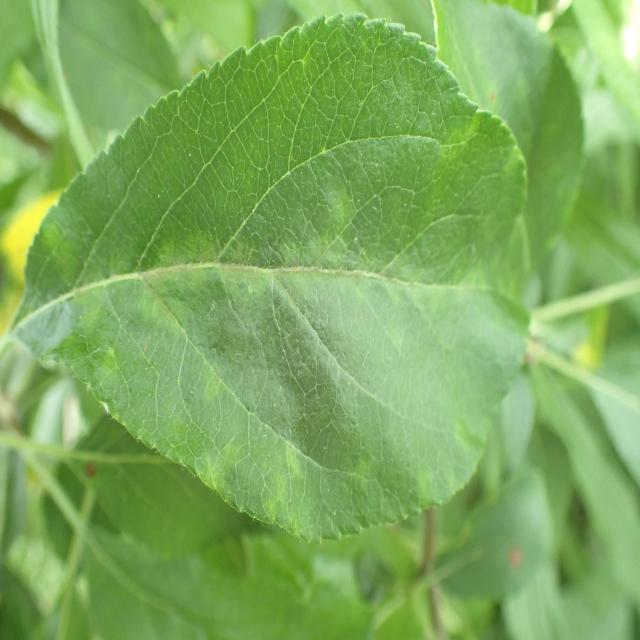scab: (32, 39, 530, 529)
